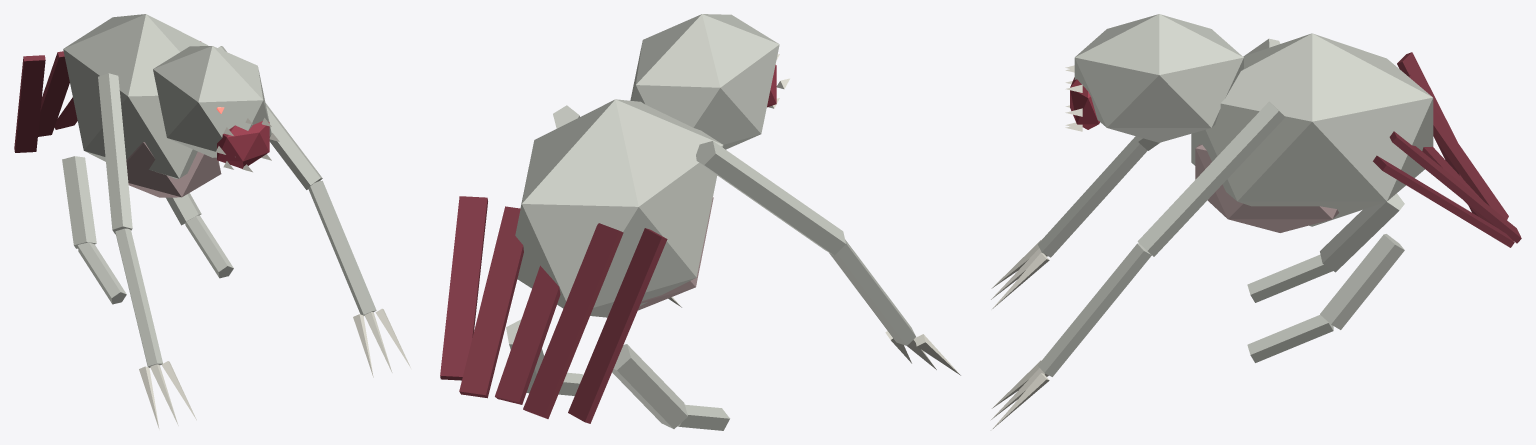
The model's file is alley_leech.glb.
The picture shows the model from 3 angles, left to right: view 1: azimuth 30°, elevation 25°; view 2: azimuth 150°, elevation 25°; view 3: azimuth 270°, elevation 25°; orthographic projection. The views are drawn at different scales.
Parts seen in each view (by area): view 1: alley_leech; view 2: alley_leech; view 3: alley_leech.
Boxes of the visible parts, bbox=[...] form: alley_leech: bbox=[14, 14, 410, 428]; alley_leech: bbox=[440, 14, 960, 430]; alley_leech: bbox=[990, 14, 1521, 430].
Size of the model in its own units: 0.9416 by 1.08 by 1.5.
